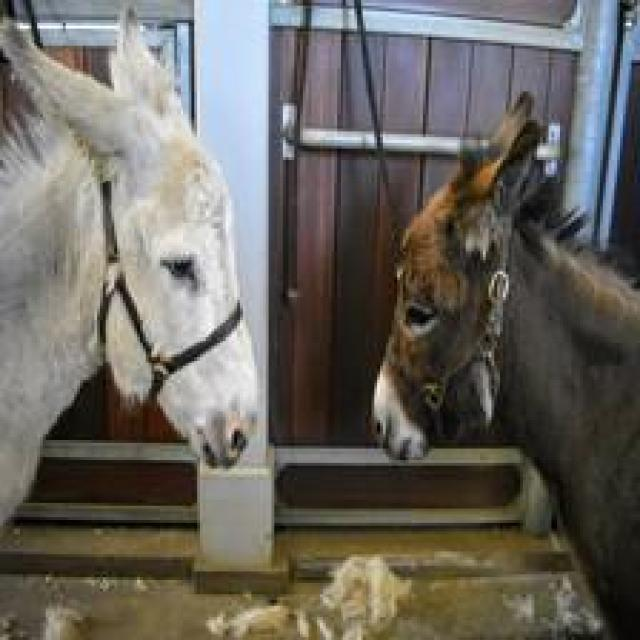Donkey: (0, 0, 257, 637), (369, 89, 637, 637)
